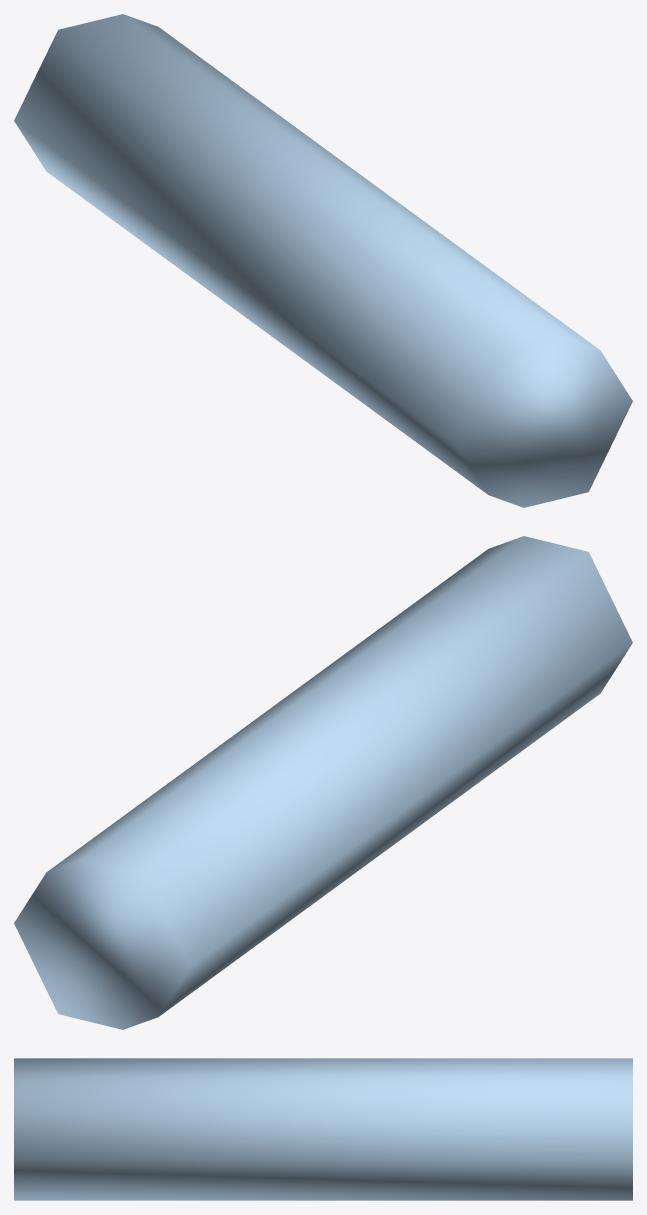
The model's file is beryl-tabular.glb.
The picture shows the model from 3 angles, top to bottom: view 1: azimuth 30°, elevation 25°; view 2: azimuth 150°, elevation 25°; view 3: azimuth 270°, elevation 25°; orthographic projection. The views are drawn at different scales.
Parts seen in each view (by area): view 1: beryl-tabular; view 2: beryl-tabular; view 3: beryl-tabular.
Boxes of the visible parts, x1,y1,x2,y2 form: beryl-tabular: (14, 14, 632, 507); beryl-tabular: (14, 536, 632, 1029); beryl-tabular: (14, 1058, 632, 1200).
Bounding box in the file's own units: 0.4619 × 0.4 × 2.
